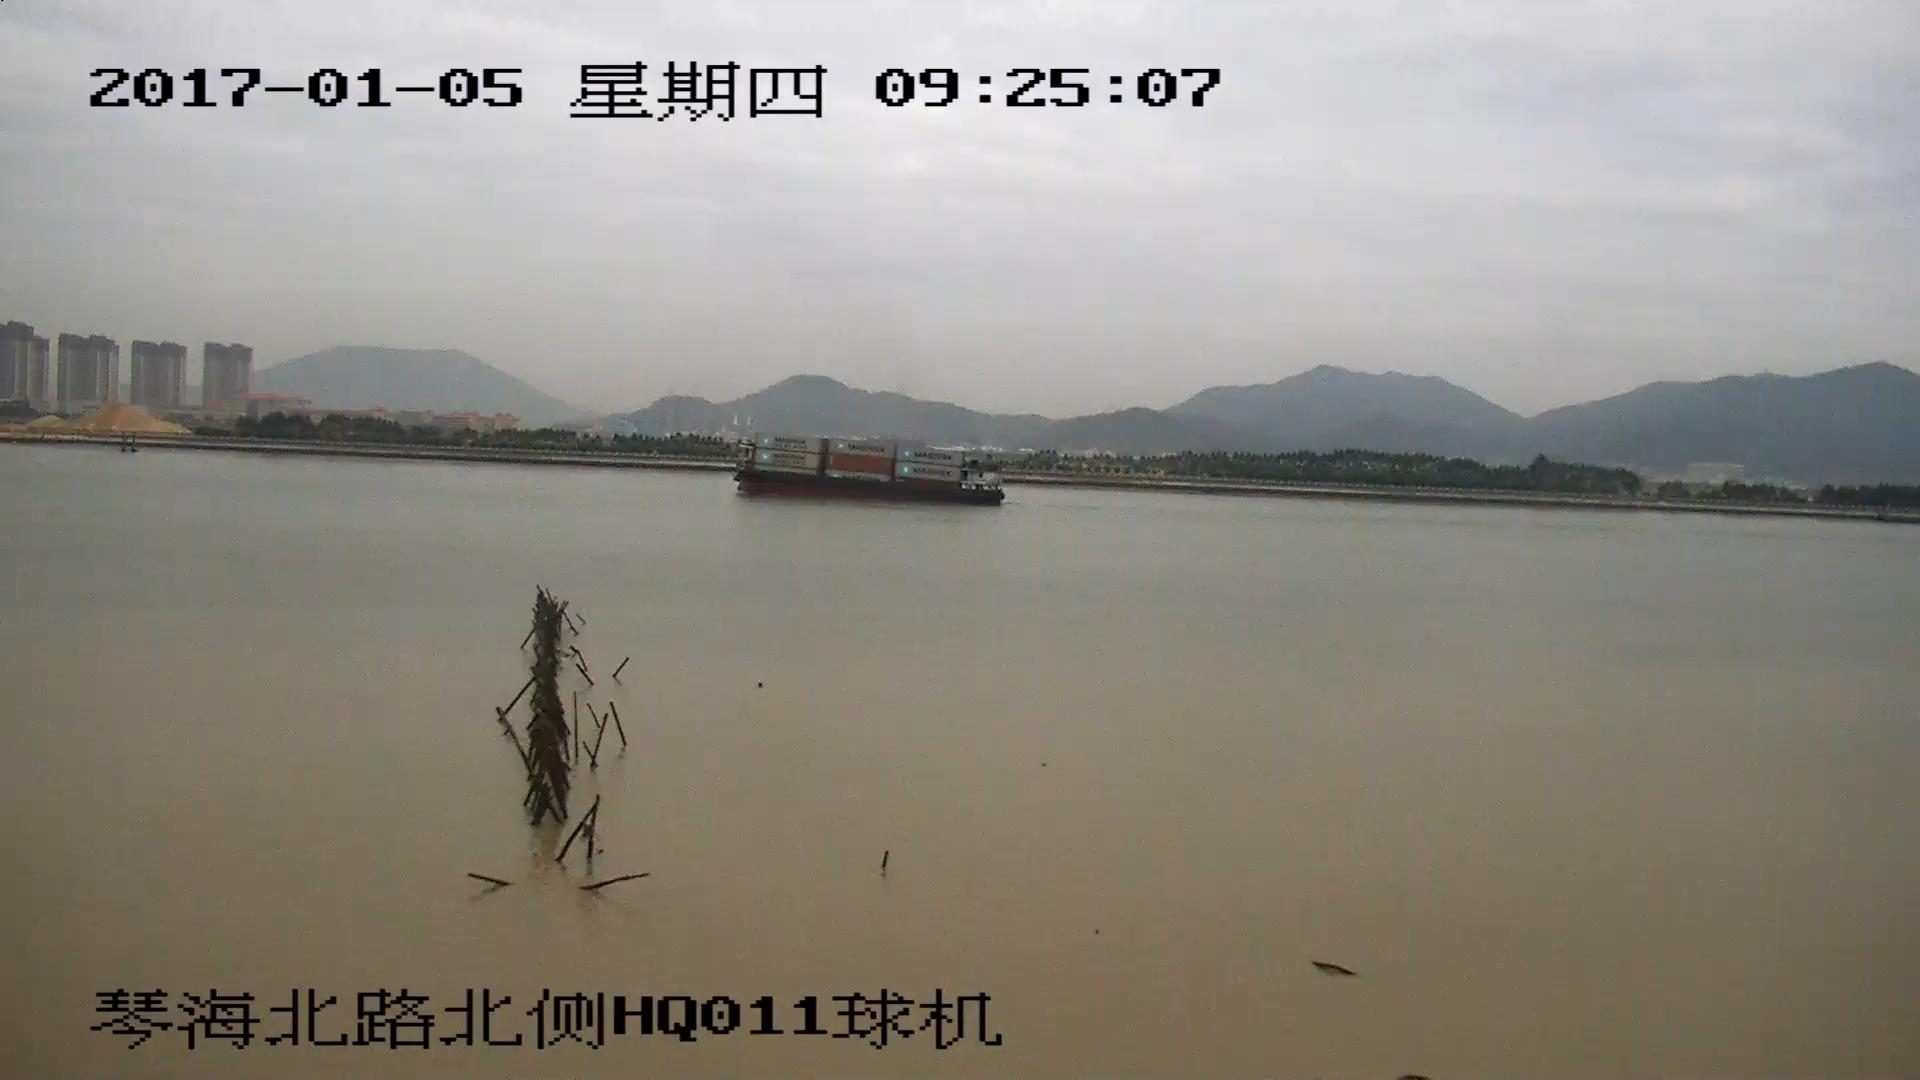container ship: (732, 436, 1004, 503)
